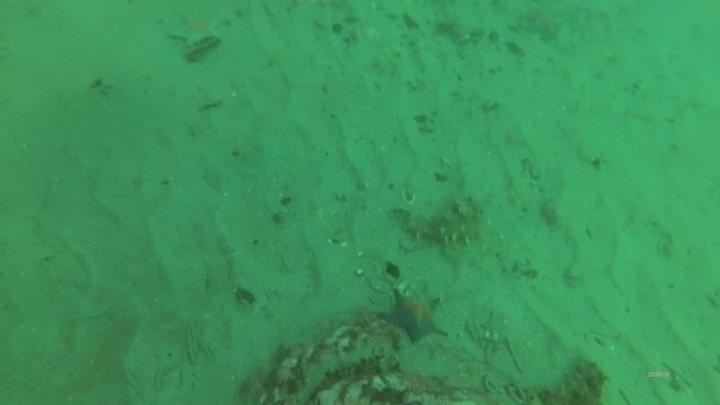holothurian: (399, 197, 487, 250)
starfish: (378, 285, 450, 346), (163, 10, 225, 51)
